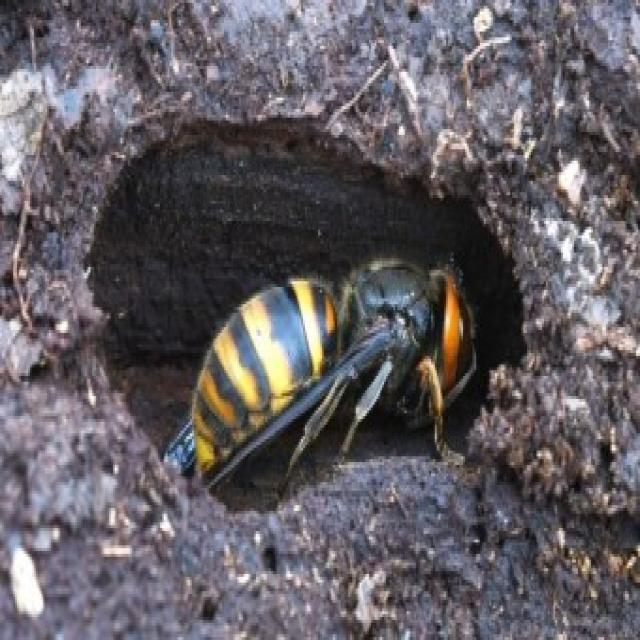Wasp: (163, 244, 482, 483)
